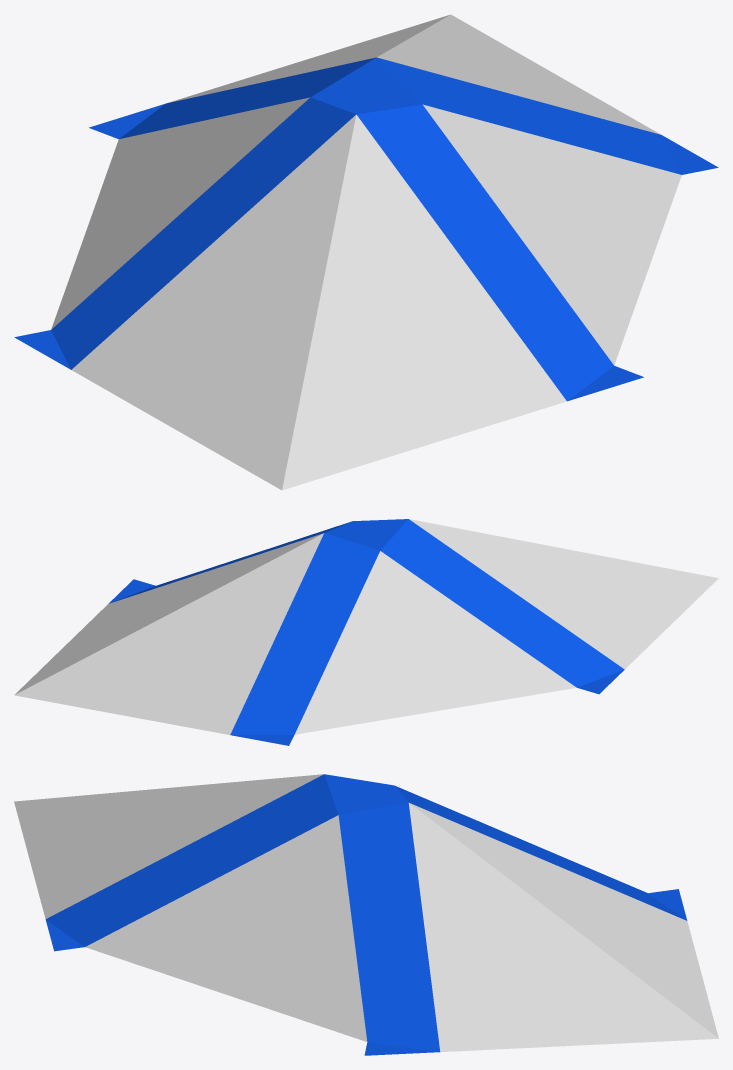
File: Terrain_Gold_1.fbx
3 views of the same model, one above another, from view 1: azimuth 30°, elevation 25°; view 2: azimuth 150°, elevation 25°; view 3: azimuth 270°, elevation 25° (orthographic). The views are drawn at different scales.
Parts seen in each view (by area): view 1: Terrain_Gold_1; view 2: Terrain_Gold_1; view 3: Terrain_Gold_1.
Boxes of the visible parts, bbox=[...] form: Terrain_Gold_1: bbox=[14, 14, 718, 490]; Terrain_Gold_1: bbox=[14, 519, 718, 745]; Terrain_Gold_1: bbox=[14, 774, 718, 1055].
Bounding box in the file's own units: 21.15 × 4.79 × 23.23.
